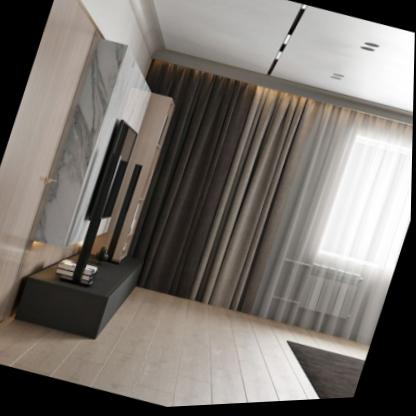Curtains: (88, 47, 415, 361)
TV stand: (15, 258, 145, 340)
Wooden floor: (0, 288, 371, 409)
